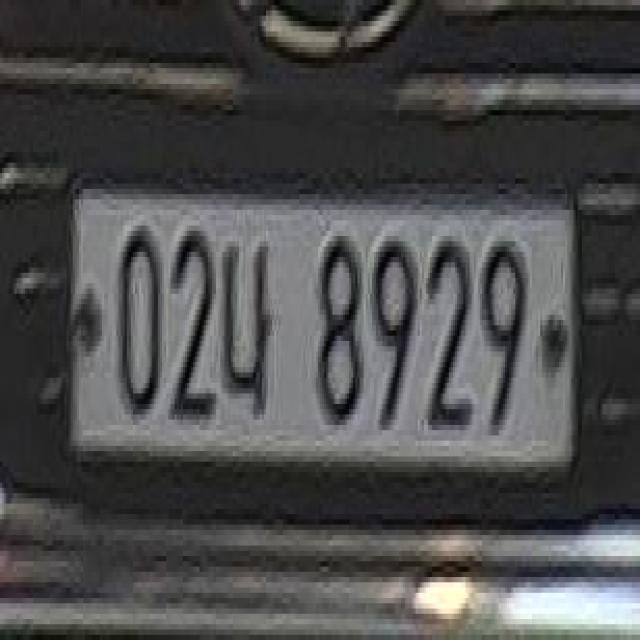illegal_plate: (71, 163, 581, 516)
